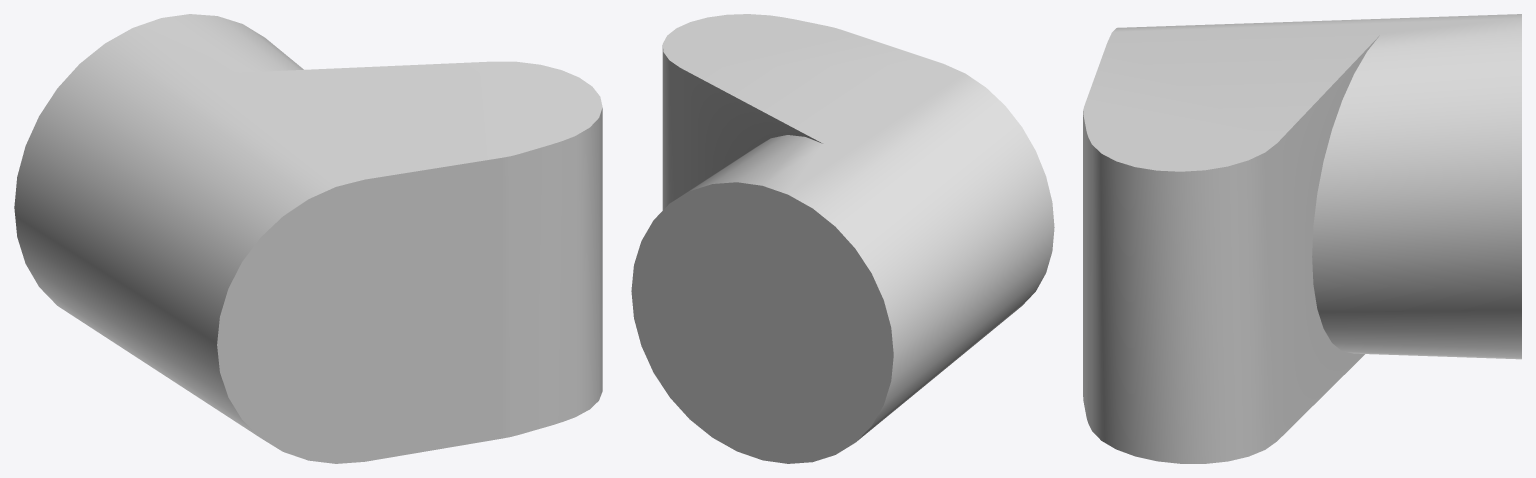
Rendered from link_head_pan.3obj.obj.
The picture shows the model from 3 angles, left to right: view 1: azimuth 30°, elevation 25°; view 2: azimuth 150°, elevation 25°; view 3: azimuth 270°, elevation 25°; orthographic projection. The views are drawn at different scales.
Visible parts, largest first — view 1: link_head_pan whole_robot; view 2: link_head_pan whole_robot; view 3: link_head_pan whole_robot.
Part boxes in pixels (<box>): link_head_pan whole_robot: <box>14,14,602,463</box>; link_head_pan whole_robot: <box>631,14,1054,463</box>; link_head_pan whole_robot: <box>1083,14,1521,463</box>.
Size of the model in its own units: 0.1635 by 0.117 by 0.1484.
1 material, 1 textured.
